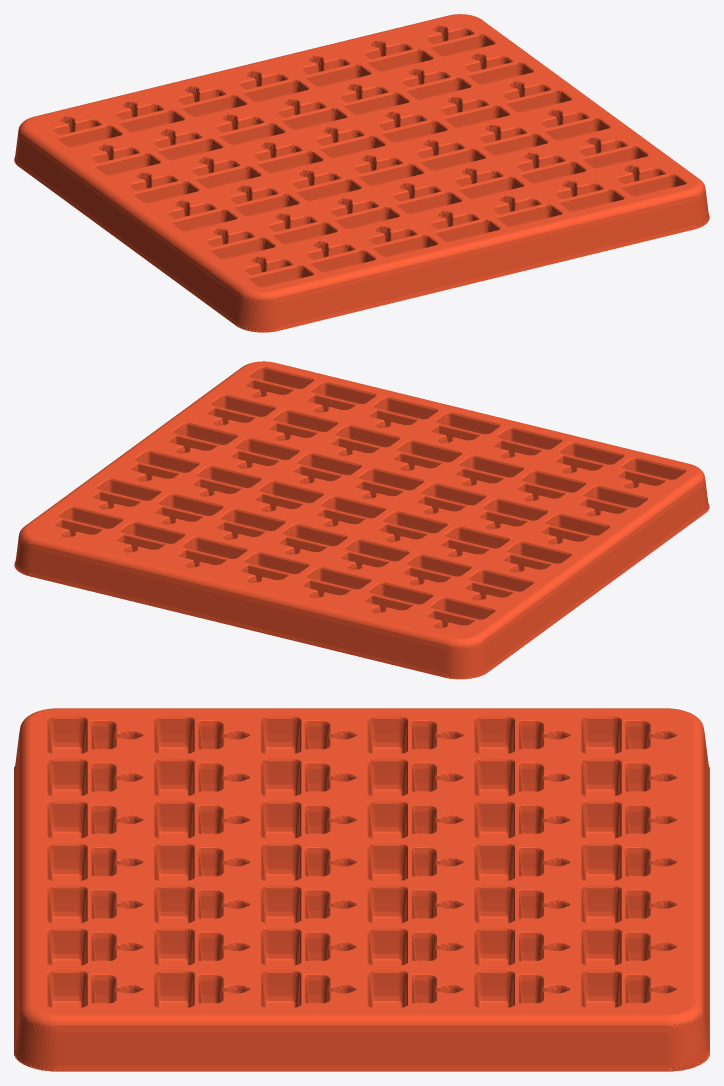
Rendered from mold.glb.
3 renders of one model, top to bottom at view 1: azimuth 30°, elevation 25°; view 2: azimuth 150°, elevation 25°; view 3: azimuth 270°, elevation 25°, orthographic. The views are drawn at different scales.
Parts seen in each view (by area): view 1: geometry_0; view 2: geometry_0; view 3: geometry_0.
Part boxes in pixels (x1=…): geometry_0: x1=14, y1=14, x2=709, y2=332; geometry_0: x1=14, y1=361, x2=709, y2=679; geometry_0: x1=14, y1=708, x2=709, y2=1071.
Size of the model in its own units: 0.1562 by 0.0114 by 0.1437.
